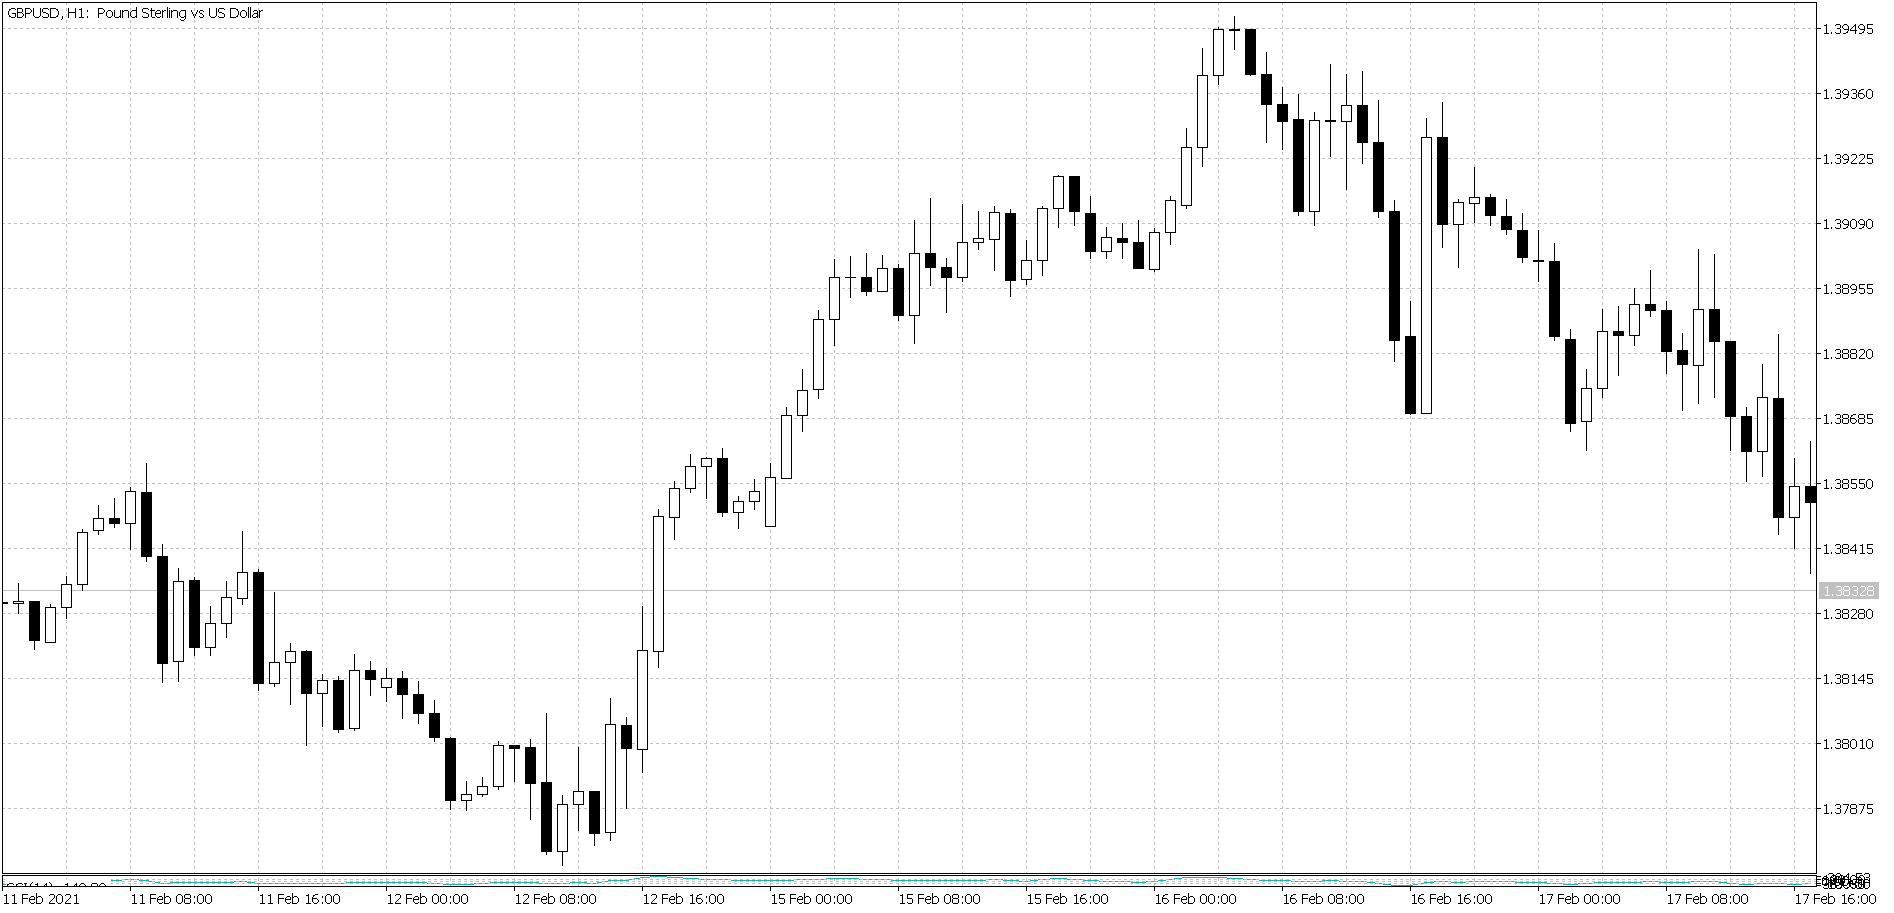3whitesoldiers: (204, 530, 249, 661)
bullishEngulfing: (586, 692, 618, 848), (1131, 220, 1163, 287)
eveningDojiStar: (826, 249, 875, 349), (1212, 14, 1257, 93)
hammer: (699, 448, 713, 499)
hangingMan: (509, 734, 522, 789)
